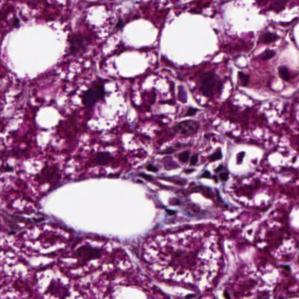inflammation: (134, 135, 232, 188)
